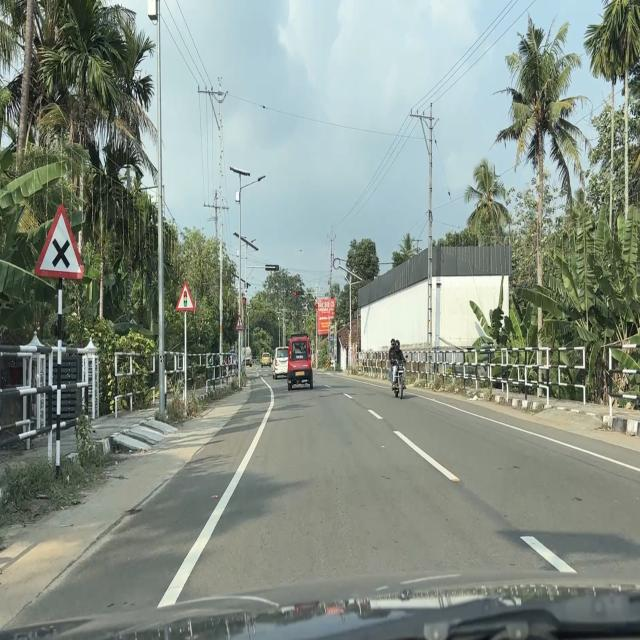CROSS_ROAD: (33, 203, 86, 280)
PEDESTRIAN_CROSSING: (235, 314, 245, 330)
WARNING: (175, 281, 196, 312)
